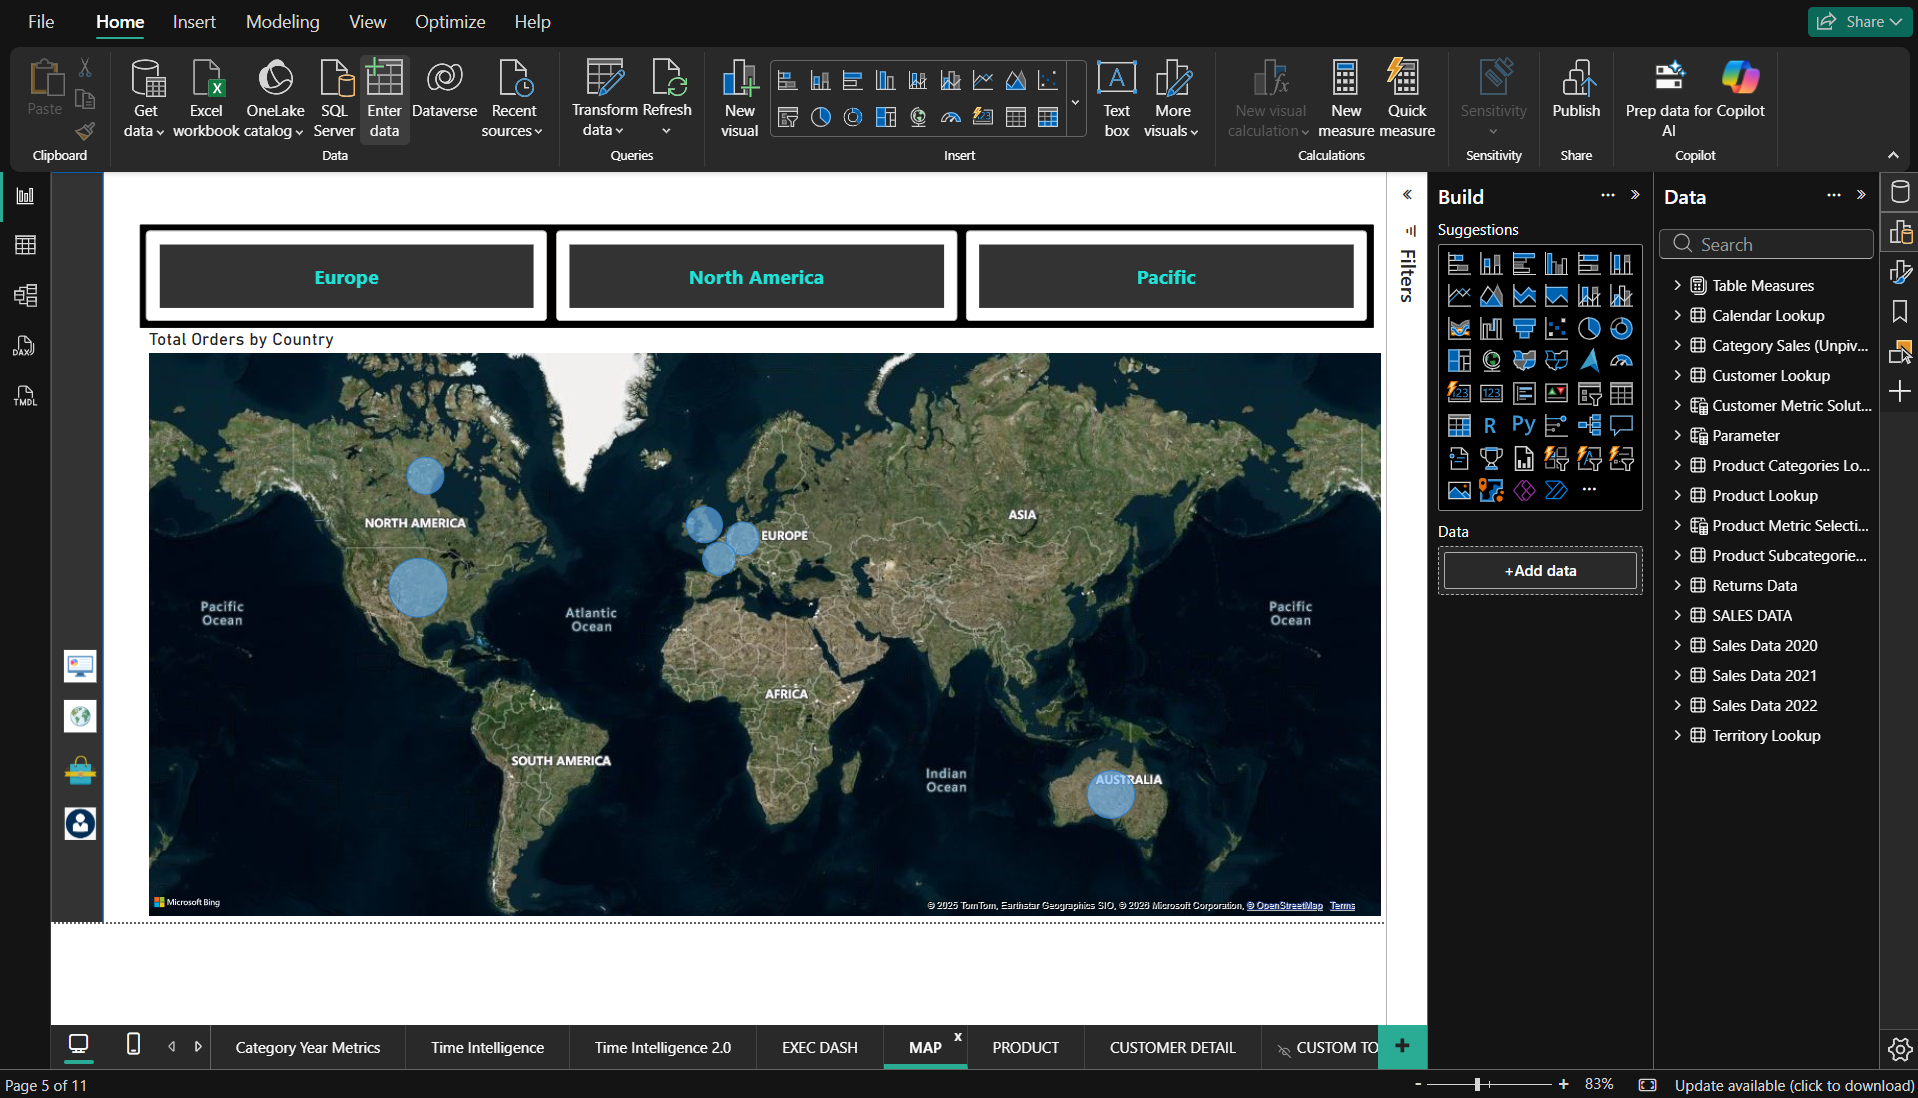

Layout of this report page (visuals, bound fields, positions):
{"tool":"powerbi","page":{"name":"MAP","canvas":[1280,720],"ordinal":4},"visuals":[{"type":"map","fields":{"Category":["Territory Lookup.Country"],"Size":["Table Measures.Total Orders"]},"box":[88.8,150.4,1191.4,569.7],"z":0},{"type":"advancedSlicerVisual","fields":{"Values":["Territory Lookup.Continent"]},"box":[85.3,49.8,1183.3,99],"z":1000},{"type":"actionButton","box":[8.4,454.2,50.3,39.6],"z":1000,"group":"g1"},{"type":"shape","title":"Left Nav Bar","box":[0,0,50.3,720.3],"z":2000},{"type":"actionButton","box":[8.4,502.1,50.3,39.6],"z":2000,"group":"g1"},{"type":"group","id":"g1","title":"Custom Navigation Button","box":[8.4,454.2,50.3,190.6],"z":3000},{"type":"actionButton","box":[8.4,554.9,50.3,39.6],"z":3000,"group":"g1"},{"type":"actionButton","box":[8.4,605.2,50.3,39.6],"z":4000,"group":"g1"}]}

Visuals, with their boxes on the page's 1280x720 design canvas (x1, y1, x2, y2). These are canvas units, not pixel positions in the 1918x1098 screenshot, which may show the page scaled, cropped or inside an application window:
map - Territory Lookup.Country x Table Measures.Total Orders: <bbox>89, 150, 1280, 720</bbox>
advancedSlicerVisual - Territory Lookup.Continent: <bbox>85, 50, 1269, 149</bbox>
actionButton: <bbox>8, 454, 59, 494</bbox>
"Left Nav Bar" shape: <bbox>0, 0, 50, 720</bbox>
actionButton: <bbox>8, 502, 59, 542</bbox>
"Custom Navigation Button" group: <bbox>8, 454, 59, 645</bbox>
actionButton: <bbox>8, 555, 59, 594</bbox>
actionButton: <bbox>8, 605, 59, 645</bbox>
